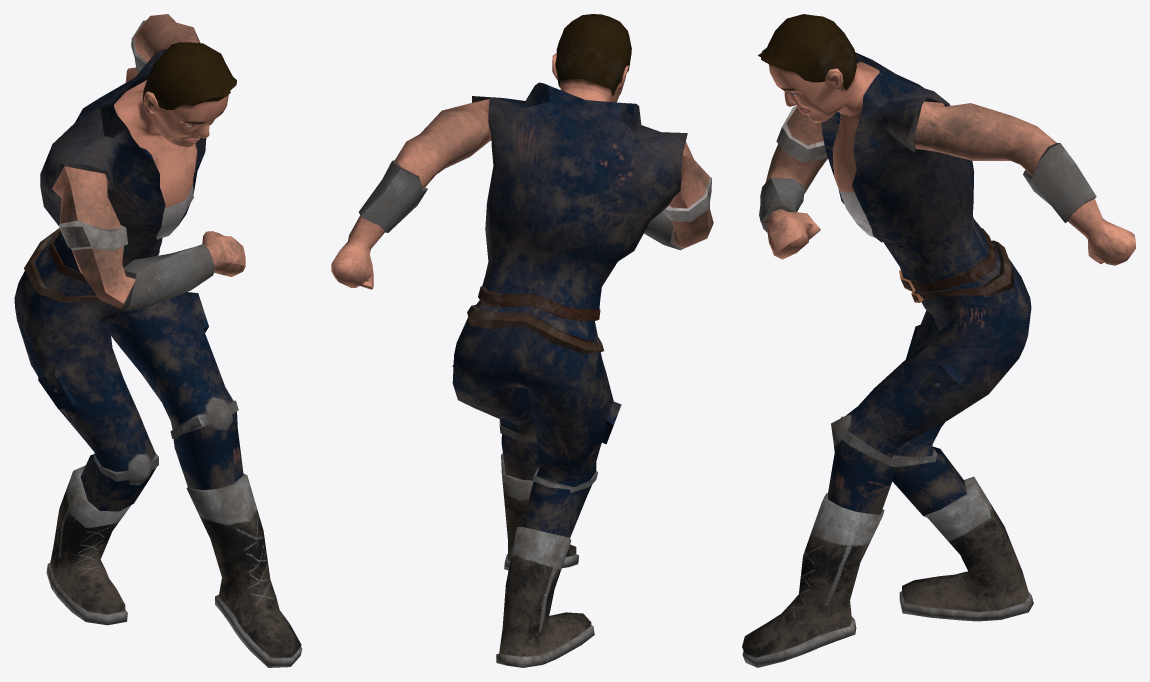
File: Anim_dash_jugador.0019.obj
The picture shows the model from 3 angles, left to right: view 1: azimuth 30°, elevation 25°; view 2: azimuth 150°, elevation 25°; view 3: azimuth 270°, elevation 25°; orthographic projection. The views are drawn at different scales.
Visible parts, largest first — view 1: polySurface1; view 2: polySurface1; view 3: polySurface1.
Boxes of the visible parts, x1,y1,x2,y2 form: polySurface1: (14, 14, 302, 667); polySurface1: (331, 14, 713, 667); polySurface1: (742, 14, 1135, 667).
Bounding box in the file's own units: 3.56 × 8.5 × 4.96.
